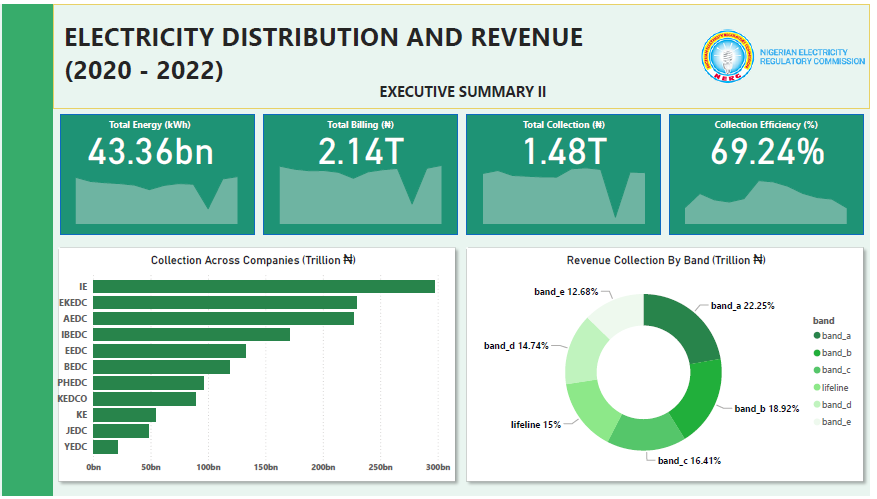

The dashboard page shown, as its layout file describes it:
{"tool":"powerbi","page":{"name":"Executive Summary ll","canvas":[1280,720],"ordinal":2},"visuals":[{"type":"shape","box":[82.7,0,1197.7,152.7],"z":0},{"type":"shape","box":[986.2,162.2,284.7,175],"z":1000},{"type":"shape","box":[688.7,162.2,284.7,175],"z":2000},{"type":"shape","box":[391.3,162.2,284.7,175],"z":3000},{"type":"shape","box":[93.8,162.2,284.7,175],"z":4000},{"type":"shape","box":[9.4,0,73.7,720],"z":5000},{"type":"card","fields":{"Values":["Merged_table.Total Energy (kWh)"]},"box":[114.5,165.4,222.7,85.9],"z":6000},{"type":"image","box":[1027.5,0,249.7,152.7],"z":7000},{"type":"shape","box":[82.7,132,1197.7,39.8],"z":8000},{"type":"areaChart","fields":{"Category":["Merged_table.date.Variation.Date Hierarchy.Month"],"Y":["Sum(Merged_table.energy_kwh)"]},"box":[103.4,221.1,264,105],"z":9000},{"type":"textbox","box":[151.1,162.2,147.9,28.6],"z":10000},{"type":"textbox","box":[448.6,162.2,170.2,28.6],"z":11000},{"type":"textbox","box":[739.6,162.2,184.5,28.6],"z":12000},{"type":"textbox","box":[1030.7,162.2,195.6,28.6],"z":13000},{"type":"card","fields":{"Values":["Sum(Merged_table.billing.billing_naira)"]},"box":[423.1,165.4,222.7,85.9],"z":14000},{"type":"card","fields":{"Values":["Sum(Merged_table.collection.collection_naira)"]},"box":[720.5,165.4,222.7,85.9],"z":15000},{"type":"card","fields":{"Values":["Merged_table.Collection Efficiency (%)"]},"box":[1018,165.4,222.7,85.9],"z":16000},{"type":"areaChart","fields":{"Category":["Merged_table.date.Variation.Date Hierarchy.Month"],"Y":["Sum(Merged_table.collection.collection_naira)"]},"box":[699.9,221.1,264,105],"z":17000},{"type":"areaChart","fields":{"Category":["Merged_table.date.Variation.Date Hierarchy.Month"],"Y":["Sum(Merged_table.billing.billing_naira)"]},"box":[402.4,221.1,264,105],"z":18000},{"type":"areaChart","fields":{"Category":["Merged_table.date.Variation.Date Hierarchy.Month"],"Y":["Merged_table.Collection Efficiency (%)"]},"box":[995.7,221.1,264,105],"z":19000},{"type":"shape","box":[82.7,348.3,599.7,361.1],"z":20000},{"type":"shape","box":[680.8,348.3,599.7,361.1],"z":21000},{"type":"clusteredBarChart","title":"Collection Across Companies (Trillion ₦)","fields":{"Category":["Merged_table.disco"],"Y":["Sum(Merged_table.collection.collection_naira)"]},"box":[82.7,362.7,586.9,334],"z":22000},{"type":"donutChart","title":"Revenue Collection By Band (Trillion ₦)","fields":{"Y":["Merged_table.Collection Efficiency (%)"],"Category":["Merged_table.band"]},"box":[695.1,362.7,572.6,334],"z":23000},{"type":"textbox","box":[93.8,15.9,830.3,116.1],"z":24000},{"type":"textbox","box":[534.4,108.2,299,39.8],"z":25000}]}

Visuals, with their boxes in screenshot pixels (x1, y1, x2, y2), scaled from the page's 1280x720 canvas onto the 877x499 screenshot:
shape: 57, 0, 876, 106
shape: 676, 112, 871, 234
shape: 472, 112, 667, 234
shape: 268, 112, 463, 234
shape: 64, 112, 259, 234
shape: 6, 0, 57, 498
card - Merged_table.Total Energy (kWh): 78, 115, 231, 174
image: 704, 0, 875, 106
shape: 57, 91, 876, 119
areaChart - Merged_table.date.Variation.Date Hierarchy.Month x Sum(Merged_table.energy_kwh): 71, 153, 252, 226
textbox: 104, 112, 205, 132
textbox: 307, 112, 424, 132
textbox: 507, 112, 633, 132
textbox: 706, 112, 840, 132
card - Sum(Merged_table.billing.billing_naira): 290, 115, 442, 174
card - Sum(Merged_table.collection.collection_naira): 494, 115, 646, 174
card - Merged_table.Collection Efficiency (%): 697, 115, 850, 174
areaChart - Merged_table.date.Variation.Date Hierarchy.Month x Sum(Merged_table.collection.collection_naira): 480, 153, 660, 226
areaChart - Merged_table.date.Variation.Date Hierarchy.Month x Sum(Merged_table.billing.billing_naira): 276, 153, 457, 226
areaChart - Merged_table.date.Variation.Date Hierarchy.Month x Merged_table.Collection Efficiency (%): 682, 153, 863, 226
shape: 57, 241, 468, 492
shape: 466, 241, 876, 492
"Collection Across Companies (Trillion ₦)" clusteredBarChart: 57, 251, 459, 483
"Revenue Collection By Band (Trillion ₦)" donutChart: 476, 251, 869, 483
textbox: 64, 11, 633, 91
textbox: 366, 75, 571, 103
